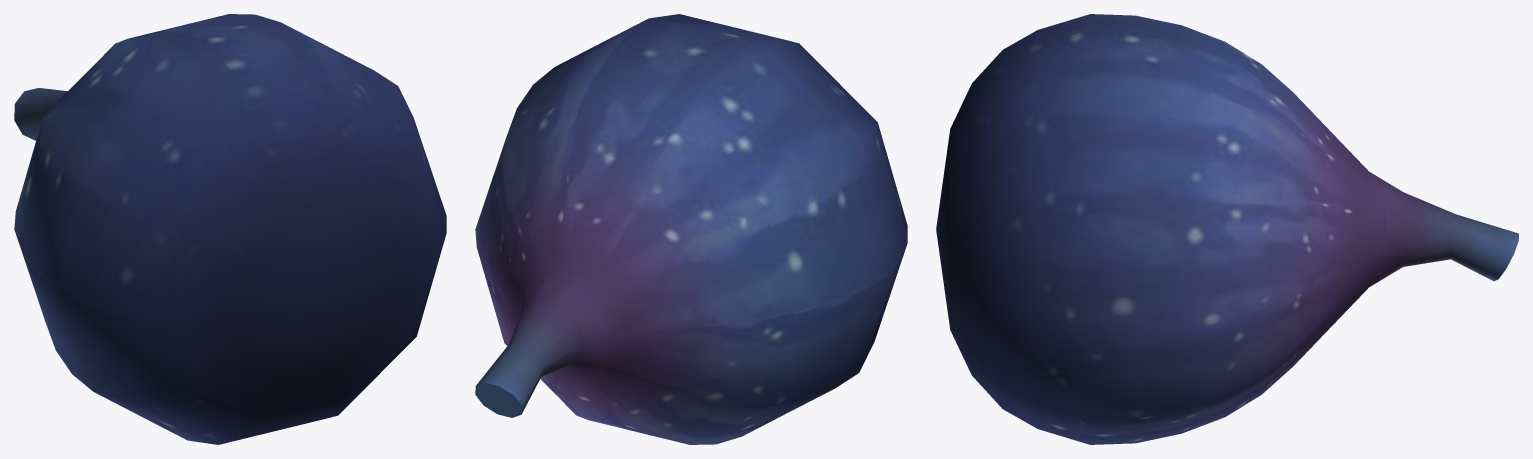
The model's file is Fig_Blue.fbx.
3 renders of one model, left to right at view 1: azimuth 30°, elevation 25°; view 2: azimuth 150°, elevation 25°; view 3: azimuth 270°, elevation 25°, orthographic.
Parts seen in each view (by area): view 1: Fig_Blue; view 2: Fig_Blue; view 3: Fig_Blue.
Boxes of the visible parts, <box> form: Fig_Blue: <box>14,14,446,444</box>; Fig_Blue: <box>475,14,907,444</box>; Fig_Blue: <box>936,14,1518,444</box>.
Bounding box in the file's own units: 4392 × 4177 × 5894.
